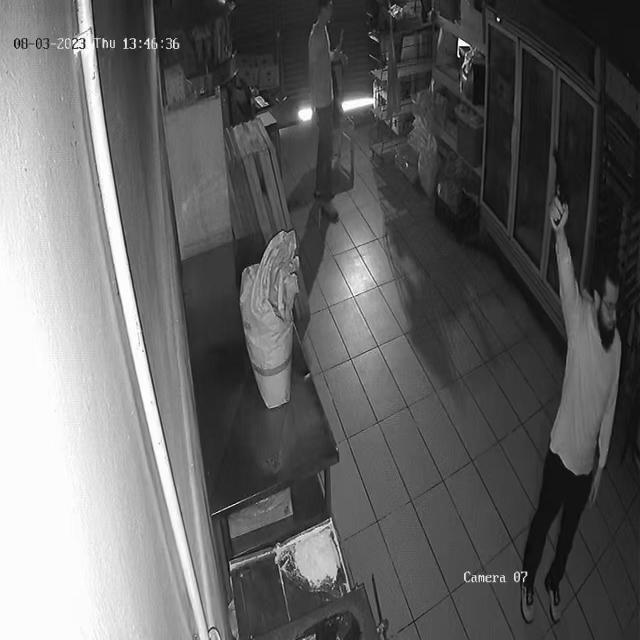Gun: (536, 143, 582, 226)
